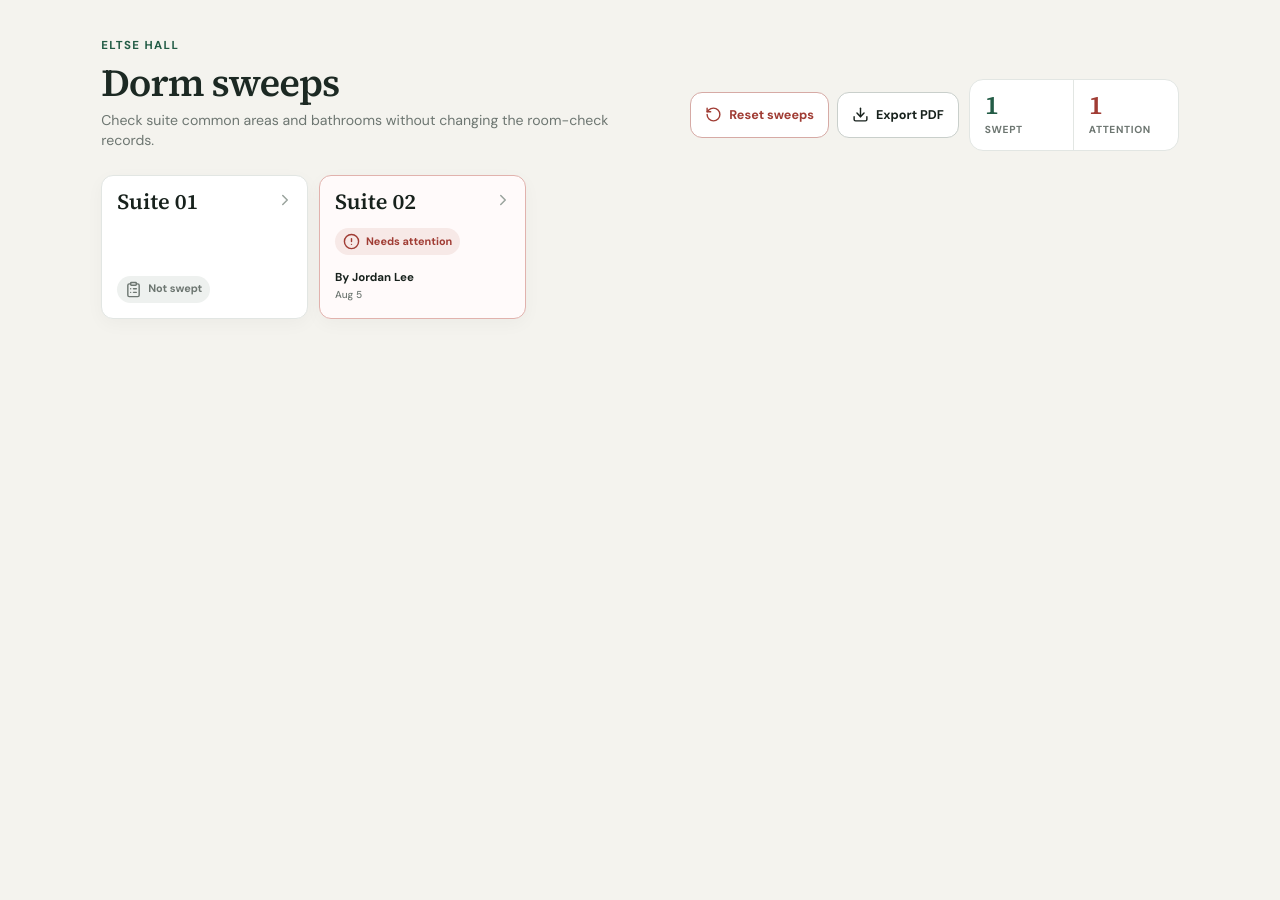
Test case: Dorm sweeps › requires confirmation before resetting all hall sweeps and refreshes the suites
This screenshot has width=1280, height=900.
Expected: the button "Suite 01 Not swept" is shown, 101,175 -> 308,319
Click the button "Reset sweeps" at [760, 115], box 690,92 -> 829,138
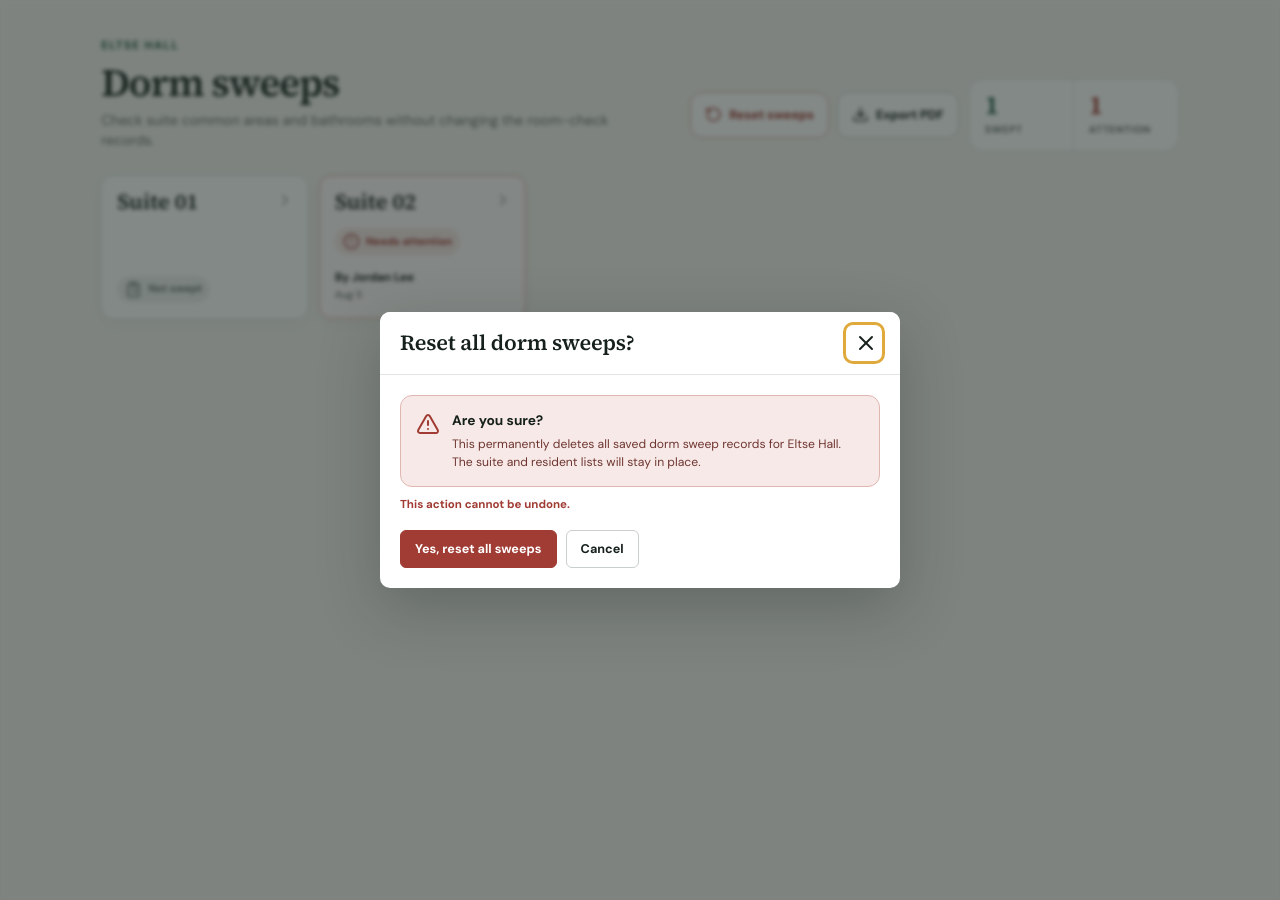
Expected: the text "permanently deletes all saved dorm sweep records for Eltse Hall" is shown, 452,436 -> 841,470
Click the button "Yes, reset all sweeps" at [478, 549], box 400,530 -> 557,568
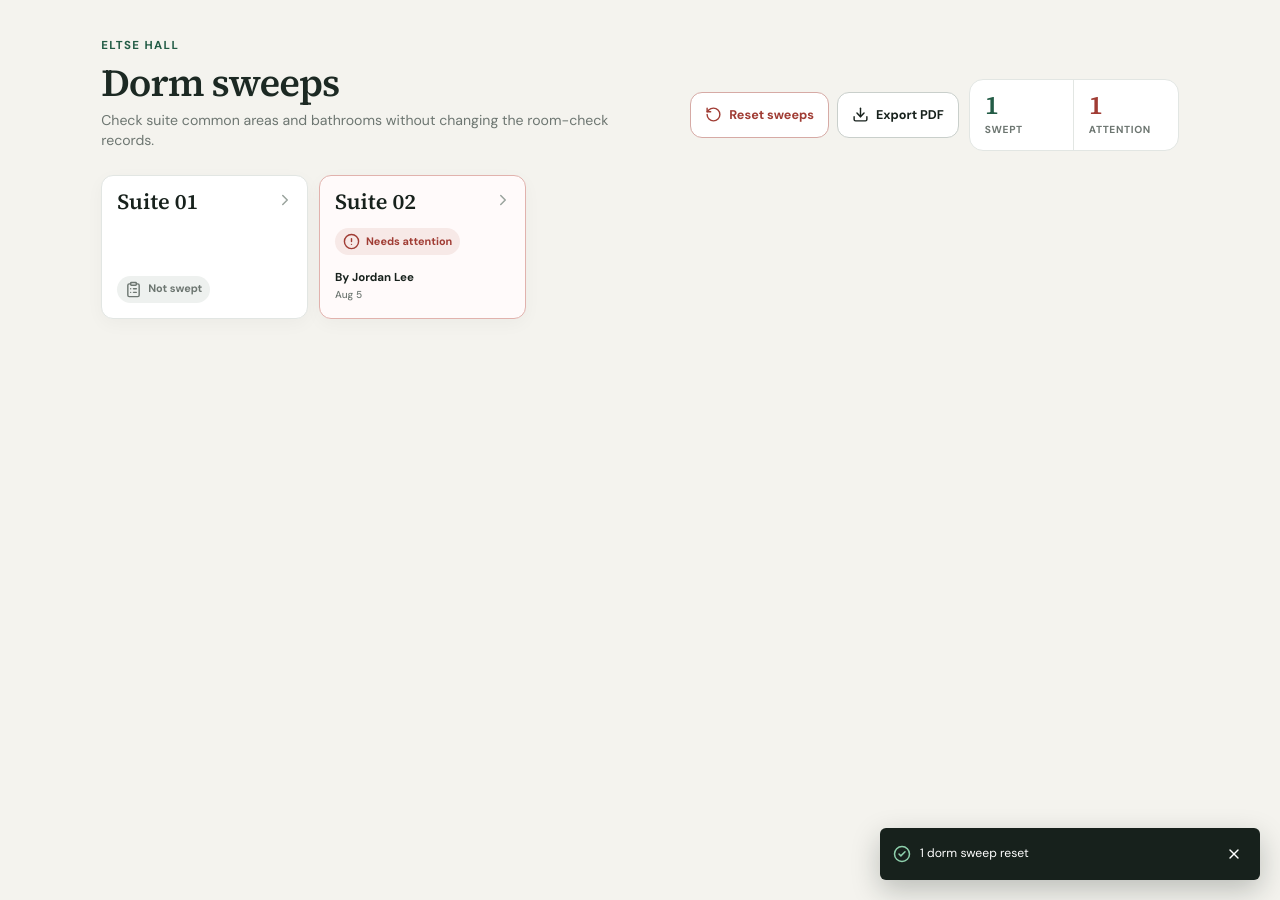
Expected: the text "1 dorm sweep reset" is shown, 920,845 -> 1029,861
